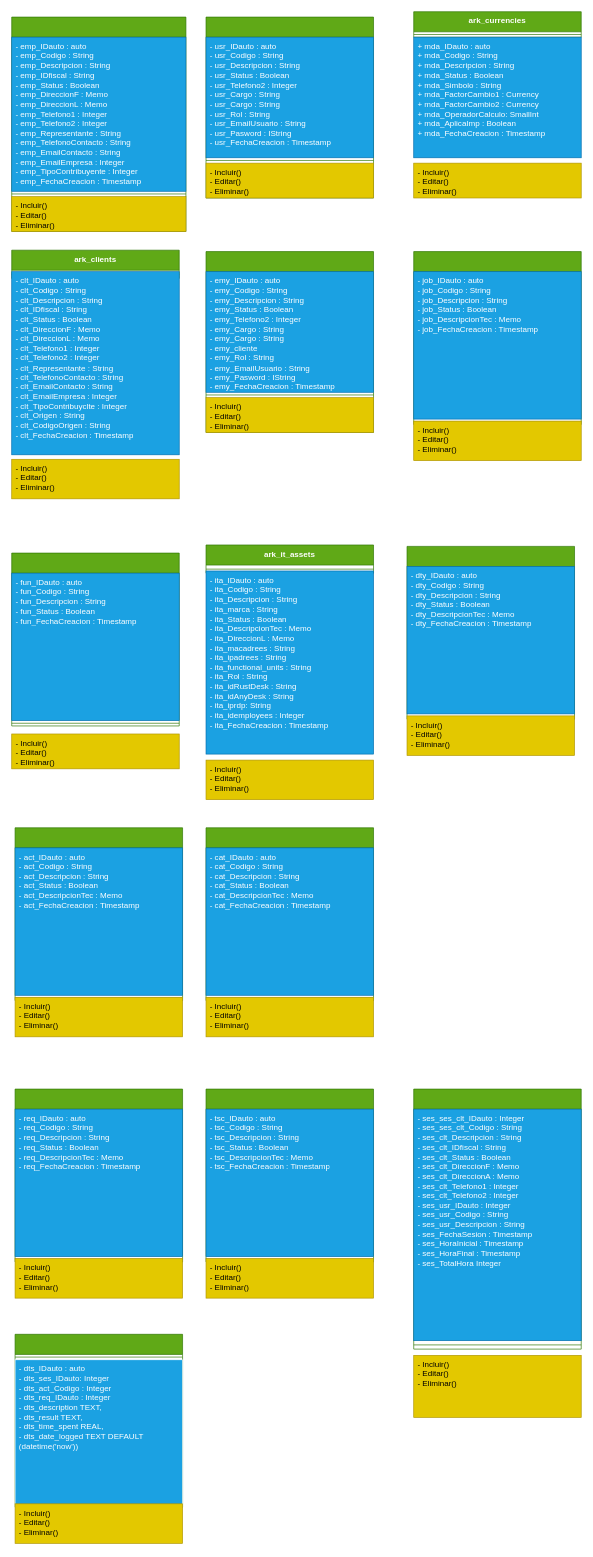
Image size: 593x1557. Some labels were removed from this diagram. The box of each missing label's shape, as (x1, y1, x2, y2) in pixels:
ark_ action_categories: (205, 827, 374, 1001)
ark_ actions: (14, 827, 183, 1001)
ark_company: (11, 16, 186, 231)
ark_device_types: (406, 546, 575, 719)
ark_employees: (205, 251, 374, 432)
ark_functional_units: (11, 552, 179, 726)
ark_job_titles: (413, 251, 581, 424)
ark_requests: (14, 1088, 183, 1262)
ark_sessions: (413, 1088, 581, 1349)
ark_sessions _details: (14, 1334, 183, 1507)
ark_tasks_completed: (205, 1088, 374, 1262)
ark_users: (205, 16, 374, 198)
